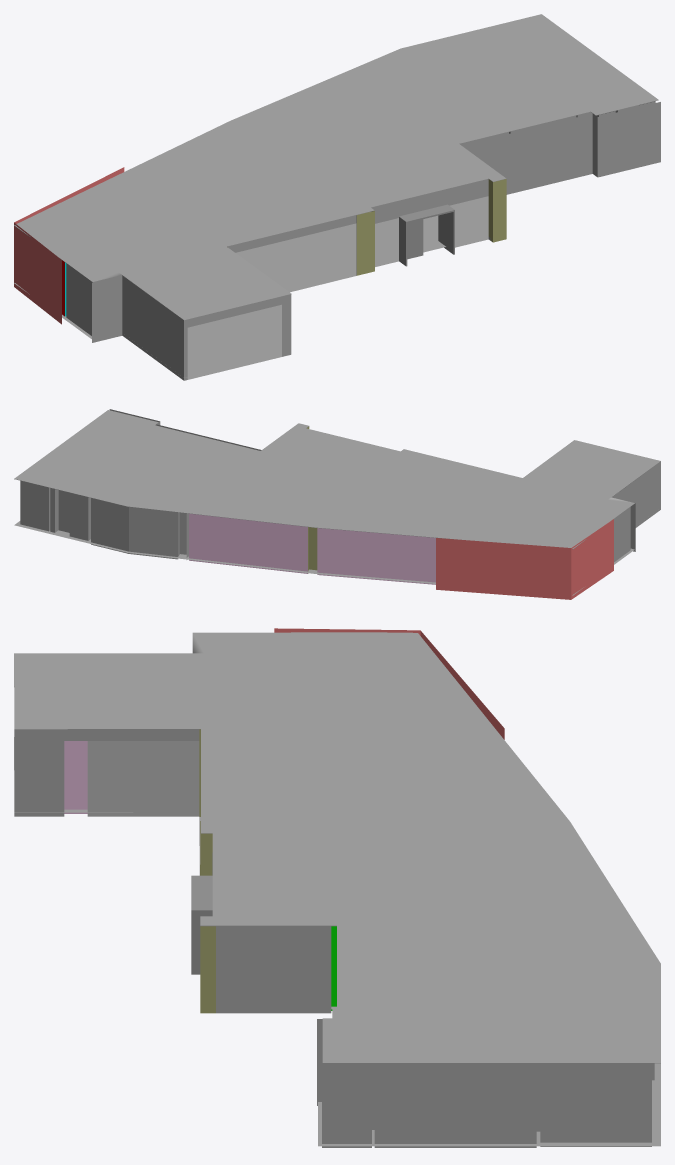
The model's file is EdificioSinV6.fbx.
3 views of the same model, one above another, from view 1: azimuth 30°, elevation 25°; view 2: azimuth 150°, elevation 25°; view 3: azimuth 270°, elevation 25° (orthographic). The views are drawn at different scales.
Parts seen in each view (by area): view 1: Techo002, polySurface4, Cristales, polySurface1, ArcoPuertaMain001, Suelo002, PuertaMainHoja004; view 2: Techo002, polySurface4, polySurface1, Suelo002; view 3: Techo002, polySurface4, Cristales, Suelo002, ArcoPuertaMain001, polySurface1.
Part boxes in pixels (left/top/right/bottom): Techo002: left=14, top=14, right=658, bottom=320; polySurface4: left=62, top=101, right=660, bottom=380; Cristales: left=187, top=196, right=488, bottom=379; polySurface1: left=14, top=167, right=124, bottom=324; ArcoPuertaMain001: left=399, top=204, right=454, bottom=266; Suelo002: left=14, top=215, right=490, bottom=377; PuertaMainHoja004: left=407, top=219, right=423, bottom=259; Techo002: left=14, top=410, right=660, bottom=549; polySurface4: left=20, top=409, right=660, bottom=584; polySurface1: left=436, top=519, right=613, bottom=599; Suelo002: left=14, top=521, right=634, bottom=595; Techo002: left=14, top=632, right=660, bottom=1063; polySurface4: left=14, top=729, right=654, bottom=1147; Cristales: left=87, top=741, right=199, bottom=816; Suelo002: left=14, top=737, right=660, bottom=1146; ArcoPuertaMain001: left=191, top=875, right=212, bottom=974; polySurface1: left=274, top=628, right=504, bottom=739.
Size of the model in its own units: 1316 by 132 by 833.
